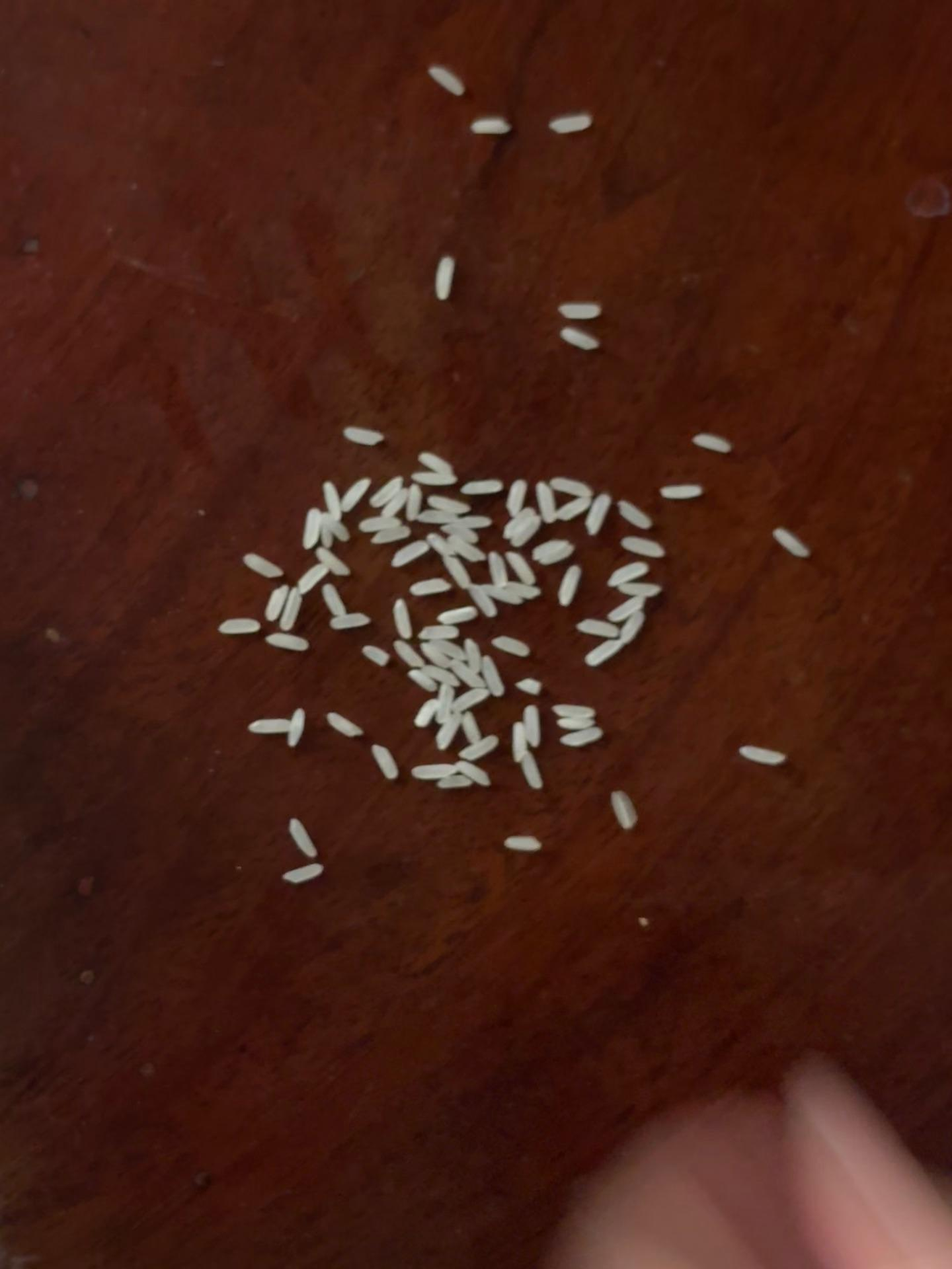Rice-th-y-nh: (586, 609, 648, 670), (585, 636, 630, 667), (583, 493, 613, 536), (607, 560, 649, 589), (446, 534, 486, 564), (288, 818, 318, 858), (419, 451, 457, 482), (607, 594, 646, 624), (532, 539, 575, 566), (459, 734, 499, 763), (369, 476, 404, 509), (502, 506, 537, 539), (427, 491, 471, 517), (773, 528, 811, 558), (519, 705, 546, 747), (435, 711, 464, 750), (620, 534, 665, 559), (296, 562, 329, 596), (339, 478, 371, 513), (466, 583, 498, 618), (506, 515, 541, 547), (505, 551, 537, 586), (534, 481, 560, 524), (441, 554, 472, 590), (617, 499, 653, 530), (411, 759, 457, 783), (454, 758, 492, 787), (279, 587, 304, 631), (480, 655, 506, 697), (390, 598, 416, 640), (315, 547, 350, 578), (451, 659, 486, 690), (519, 750, 546, 790), (371, 743, 400, 780), (617, 610, 646, 647), (419, 662, 460, 688), (326, 710, 364, 738), (391, 540, 429, 568), (380, 486, 411, 520), (429, 66, 464, 96), (557, 564, 582, 606), (423, 638, 466, 662), (577, 616, 620, 640), (549, 475, 592, 499), (506, 722, 531, 763), (420, 640, 454, 670), (610, 790, 636, 829), (433, 683, 457, 725), (243, 553, 283, 578), (392, 639, 425, 669), (559, 726, 603, 748), (411, 467, 457, 488), (417, 505, 459, 528), (264, 585, 290, 622), (559, 326, 599, 350), (491, 634, 531, 658), (504, 480, 529, 518), (434, 257, 456, 300), (739, 745, 786, 765), (452, 687, 489, 712), (438, 604, 478, 627), (402, 483, 426, 521), (556, 495, 591, 521), (266, 631, 309, 652), (283, 862, 324, 884), (301, 508, 323, 549), (501, 578, 540, 601), (285, 708, 308, 747), (461, 637, 485, 674), (371, 524, 411, 546), (443, 521, 479, 545), (343, 425, 384, 446), (321, 584, 347, 617), (322, 513, 351, 542), (359, 514, 401, 534), (461, 477, 503, 497), (487, 582, 522, 606), (487, 551, 510, 587), (550, 115, 591, 135), (322, 482, 343, 521), (693, 433, 732, 454), (617, 580, 660, 599), (450, 512, 493, 531), (460, 711, 484, 745), (553, 701, 595, 720), (218, 616, 260, 635), (250, 716, 291, 735), (660, 483, 703, 501), (426, 533, 456, 558), (408, 668, 437, 693), (504, 833, 542, 852), (415, 698, 439, 728), (330, 612, 370, 630), (410, 578, 450, 596), (557, 714, 595, 732), (418, 624, 458, 641), (559, 303, 600, 319), (471, 118, 511, 134), (361, 644, 390, 666), (437, 773, 472, 790), (515, 677, 543, 695)
